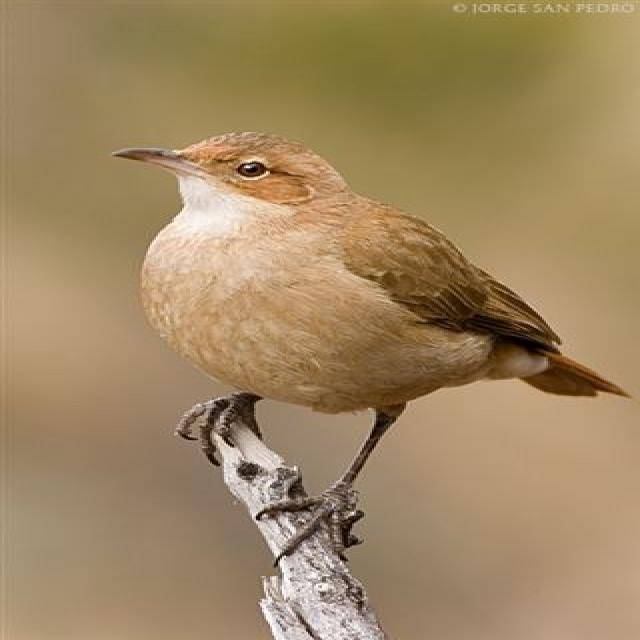bird: (98, 123, 640, 573)
